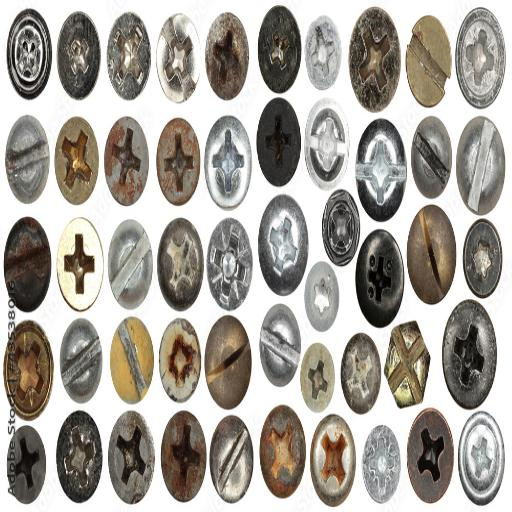Phillips: (56, 12, 101, 102), (156, 14, 200, 102), (107, 15, 150, 101)
Slotted: (458, 118, 504, 212), (107, 222, 154, 311), (259, 302, 300, 384)
